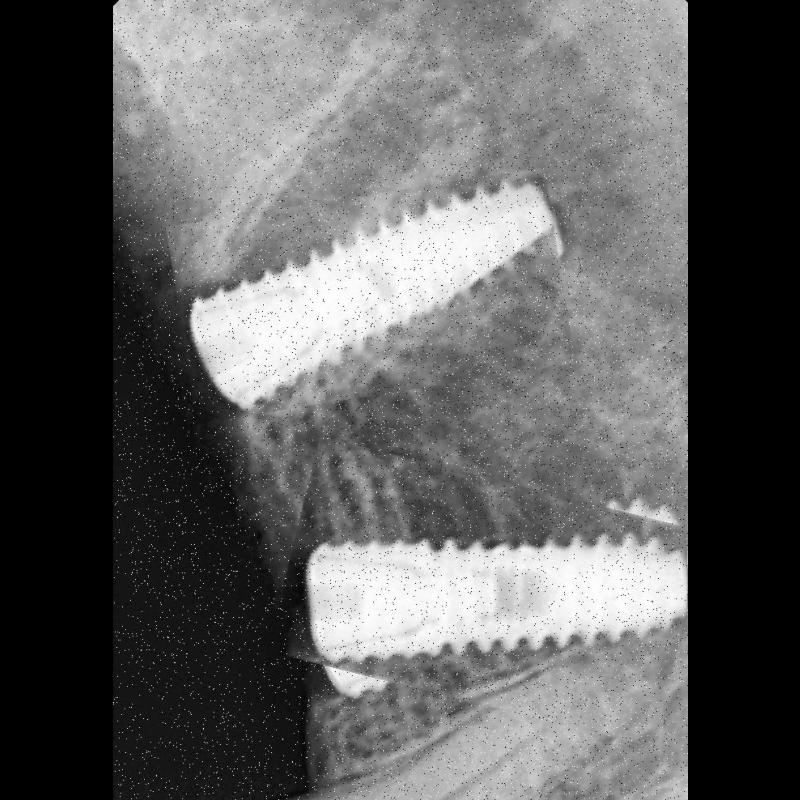osstem: (277, 460, 687, 726), (172, 182, 568, 408)
